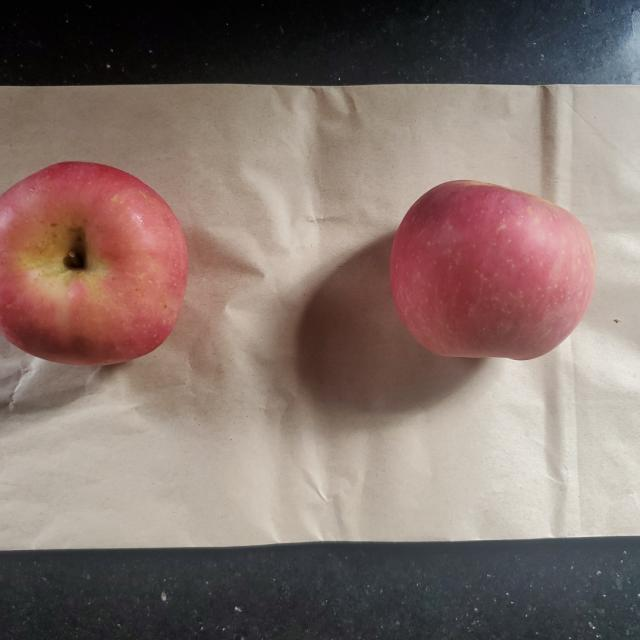apple: (3, 162, 192, 366), (394, 182, 600, 364)
